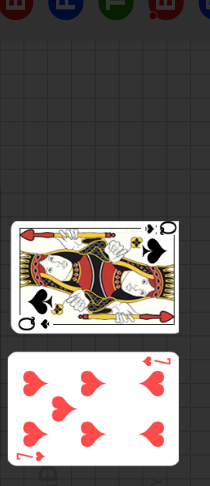7H: (14, 450, 46, 464)
